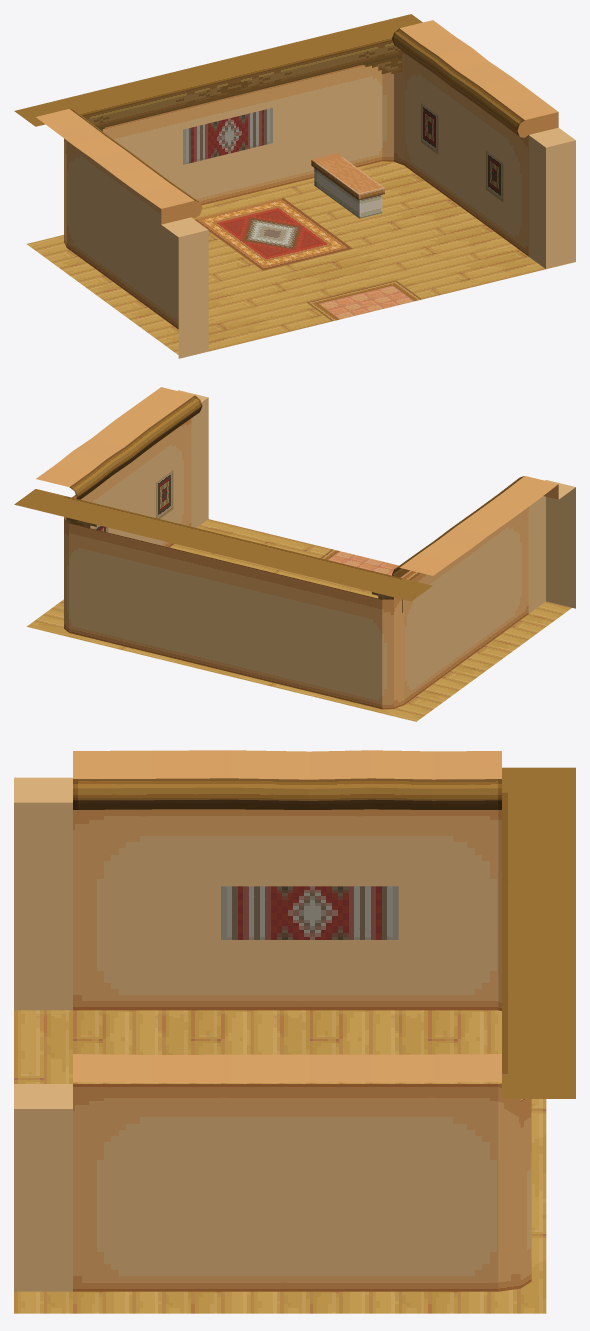
The model's file is ROOM34.obj.
The picture shows the model from 3 angles, top to bottom: view 1: azimuth 30°, elevation 25°; view 2: azimuth 150°, elevation 25°; view 3: azimuth 270°, elevation 25°; orthographic projection. The views are drawn at different scales.
Parts seen in each view (by area): view 1: polygon6, polygon1, polygon4, polygon0, polygon3, polygon2, polygon5; view 2: polygon6, polygon1, polygon2, polygon5; view 3: polygon6, polygon1, polygon0.
Part boxes in pixels (box(x1,y1,x2,y2)): polygon6: box(14, 14, 575, 358); polygon1: box(27, 161, 545, 354); polygon4: box(195, 198, 352, 270); polygon0: box(183, 108, 272, 164); polygon3: box(311, 153, 384, 218); polygon2: box(306, 280, 421, 321); polygon5: box(421, 103, 503, 201); polygon6: box(14, 387, 575, 709); polygon1: box(26, 519, 571, 721); polygon2: box(320, 549, 418, 579); polygon5: box(93, 470, 173, 532); polygon6: box(14, 750, 575, 1291); polygon1: box(14, 1010, 546, 1313); polygon0: box(221, 886, 398, 939).
Bounding box in the file's own units: 3.33 × 1.09 × 2.38.
Materials: 7 (7 with a texture image).
